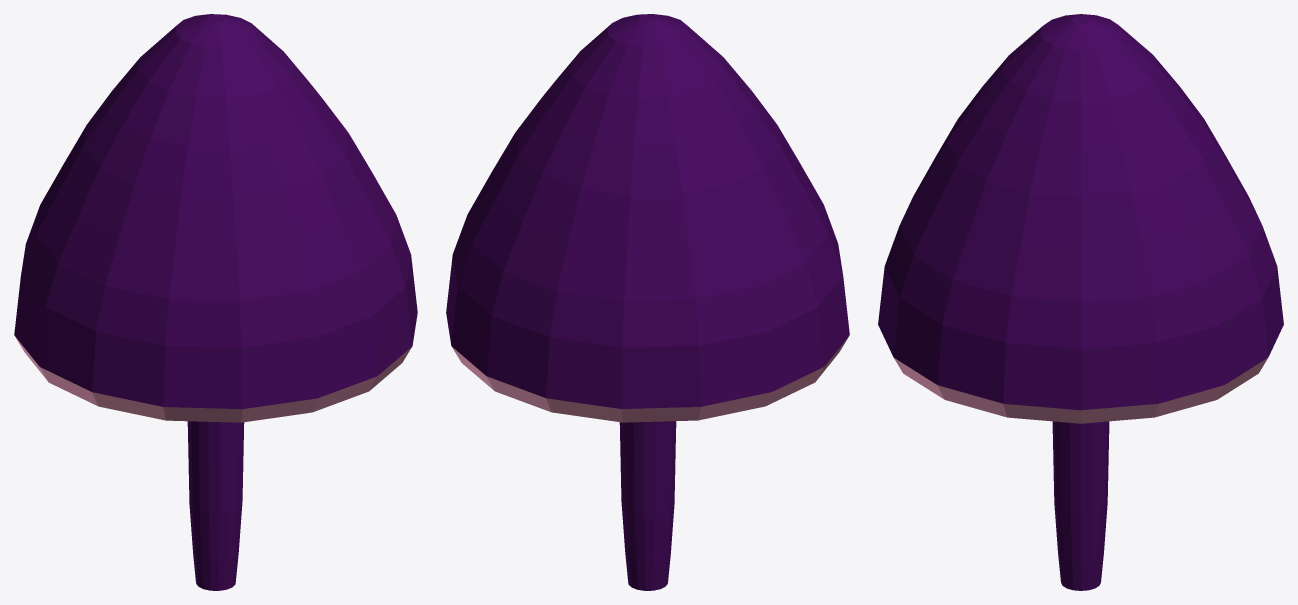
File: mushroomTallHub.fbx
3 views of the same model, side by side, from view 1: azimuth 30°, elevation 25°; view 2: azimuth 150°, elevation 25°; view 3: azimuth 270°, elevation 25° (orthographic).
Visible parts, largest first — view 1: Cylinder; view 2: Cylinder; view 3: Cylinder.
Part boxes in pixels (box(x1,y1,x2,y2)): Cylinder: box(14, 14, 417, 590); Cylinder: box(446, 14, 849, 590); Cylinder: box(878, 14, 1283, 590).
Bounding box in the file's own units: 159 × 244 × 159.
